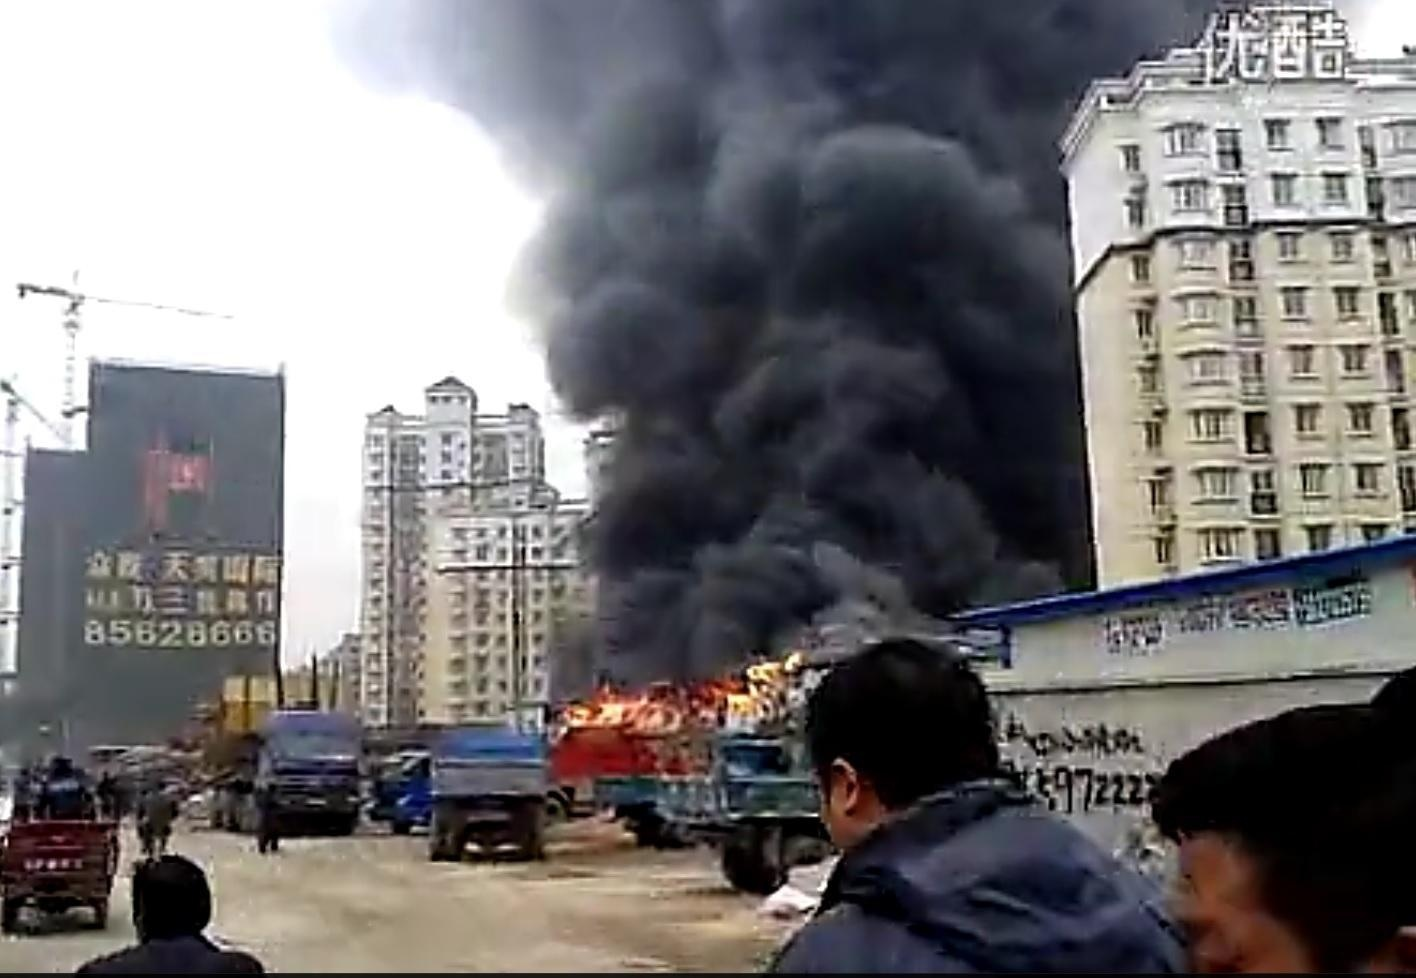fire: (557, 654, 804, 731)
